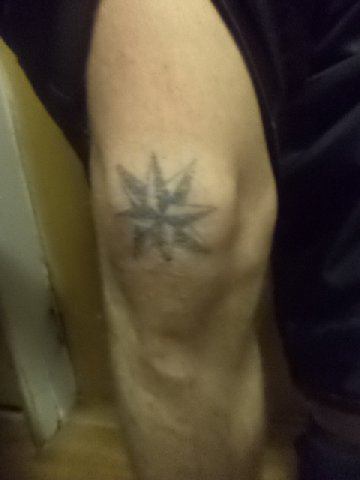tatu4_zvezda: (113, 154, 218, 270)
